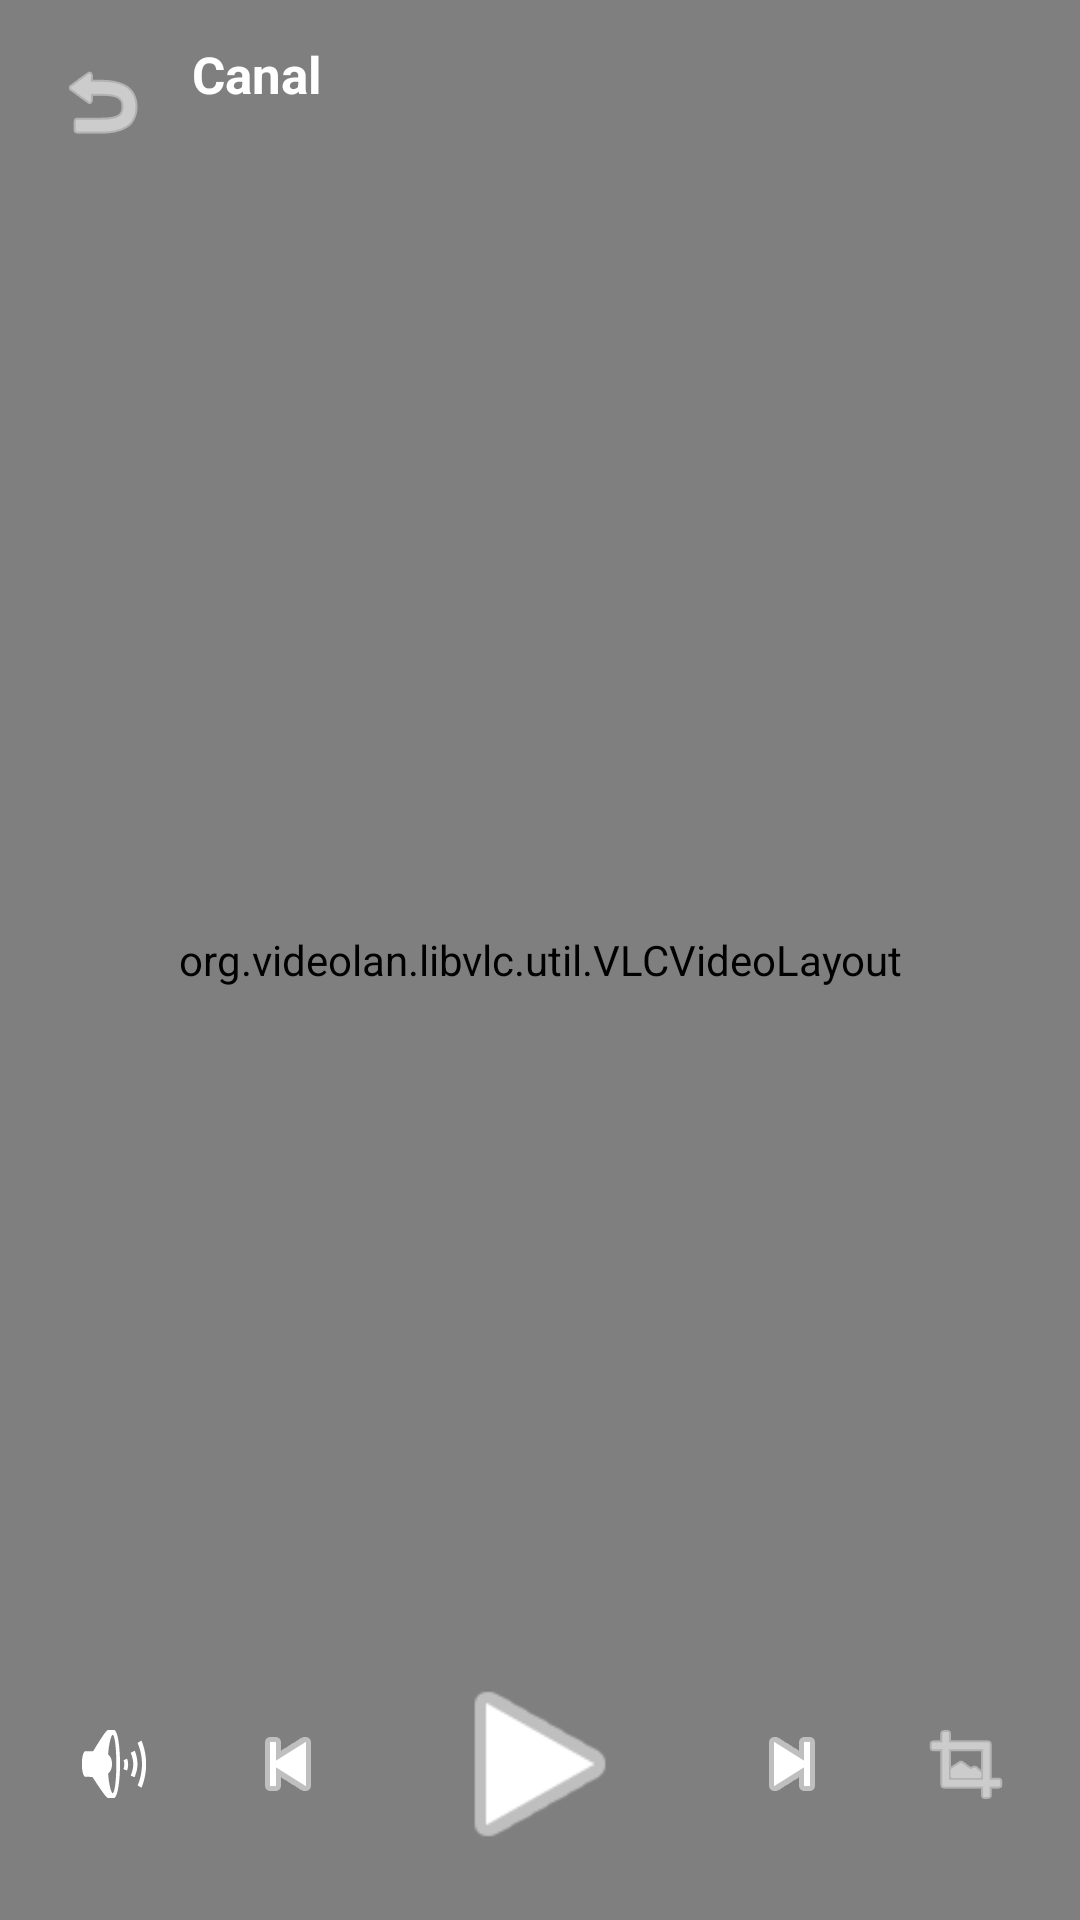

Icons on this 1080*1920 Android screen, each with its box as (x1, y1, x2, y2):
Anterior: (265, 1737, 311, 1791)
Aspecto: (930, 1730, 1002, 1799)
Play/Pause: (474, 1692, 606, 1836)
Siguiente: (769, 1737, 815, 1791)
Volumen: (82, 1730, 146, 1798)
Volver: (69, 72, 138, 134)
